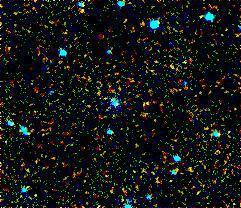star: (68, 0, 98, 27)
